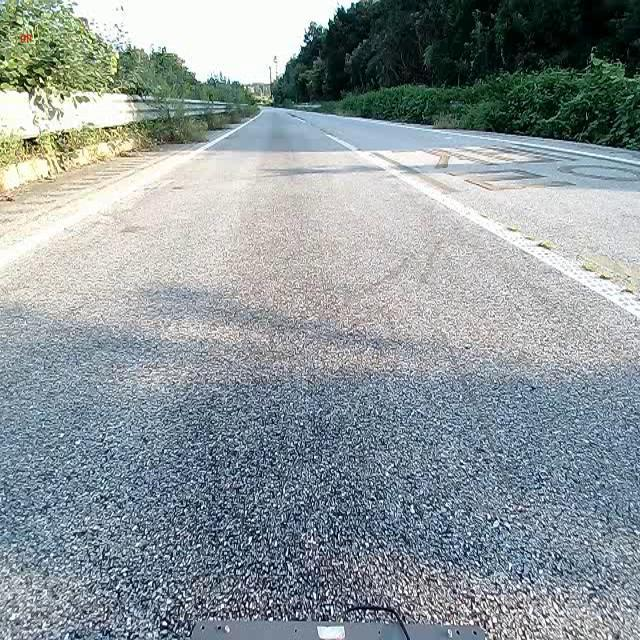Lane: (320, 128, 640, 320), (329, 135, 639, 320), (0, 102, 273, 280), (0, 111, 263, 270)
